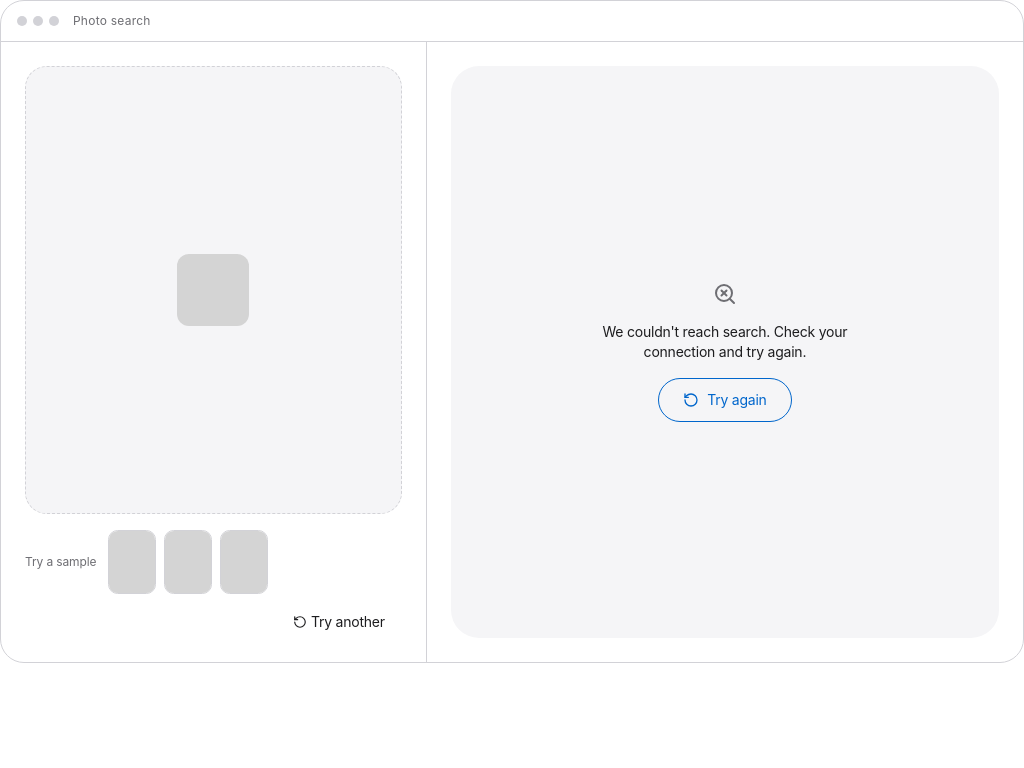
Scenario: LiveSearch › reports a network failure and a photo that cannot be read, without leaving the page
Earlier steps of the test are not shown.
Expected: the message shows "couldn't reach search", [602,323,847,360]
Click the button "Try again". click: point(725, 400)
box: [658,378,792,422]
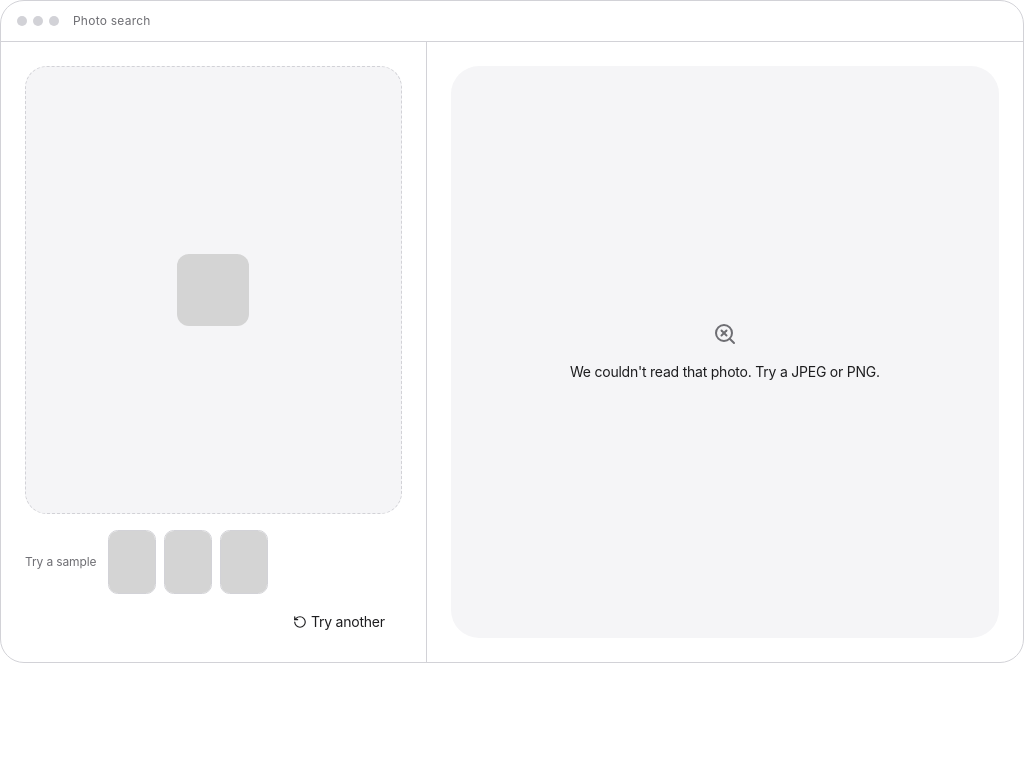
Expected: the message shows "couldn't read that photo", [570,363,880,380]
Expected: the text "try again" is gone
